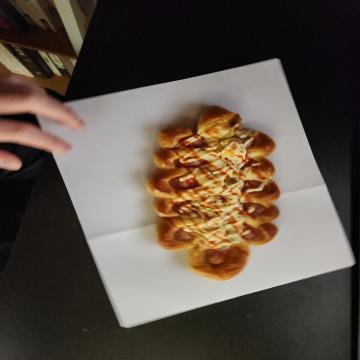pizza_bread: (102, 76, 280, 210)
